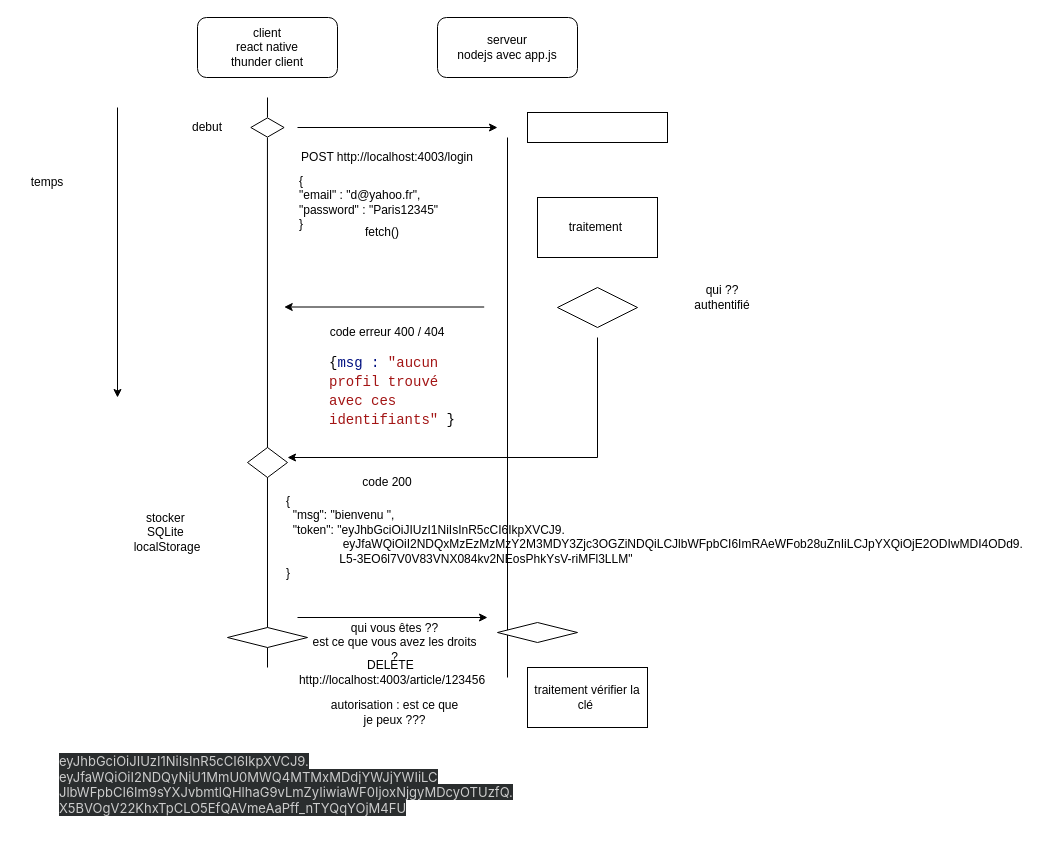
The diagram is 1054 pixels wide and 845 high, and some of its shapes have lost their labels. The shapes that lost their labels are listed below. From the top down, each one's box as (x1, y1, x2, y2) in pixels, then its label:
(526, 112, 668, 142): route-connnexion.js
(556, 286, 638, 328): si erreur
